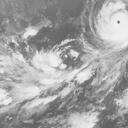cyclone: (25, 50, 67, 90), (95, 1, 127, 46)
